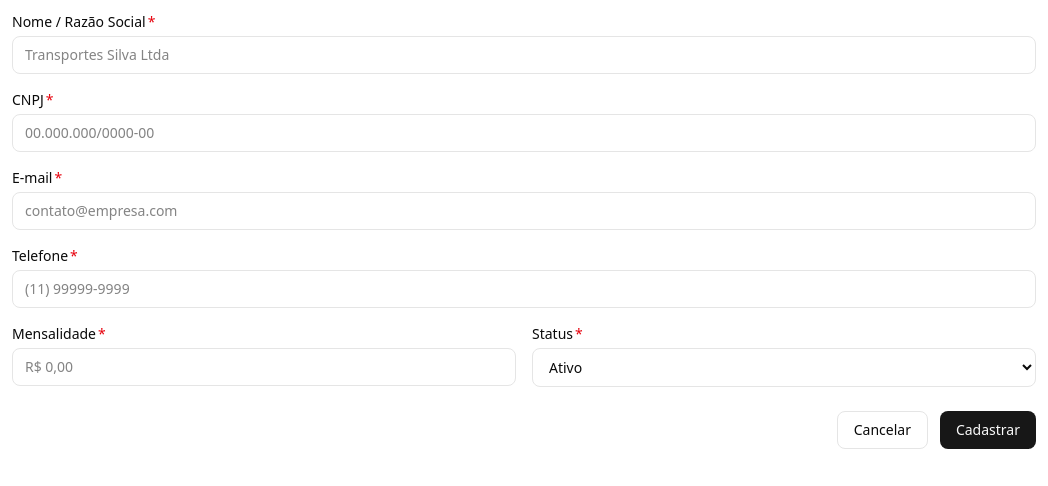
Test: CustomerForm — validação › e-mail inválido → erro após blur
Step 1. Type "nao-e-email" into the field labelled "E-mail*" → (524, 211), box [12, 192, 1036, 230]
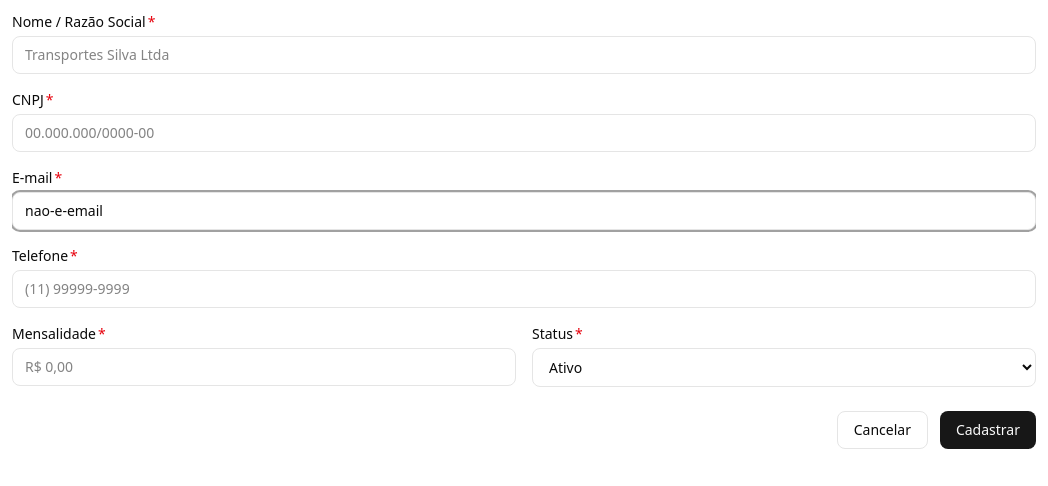
Step 2. Press Tab
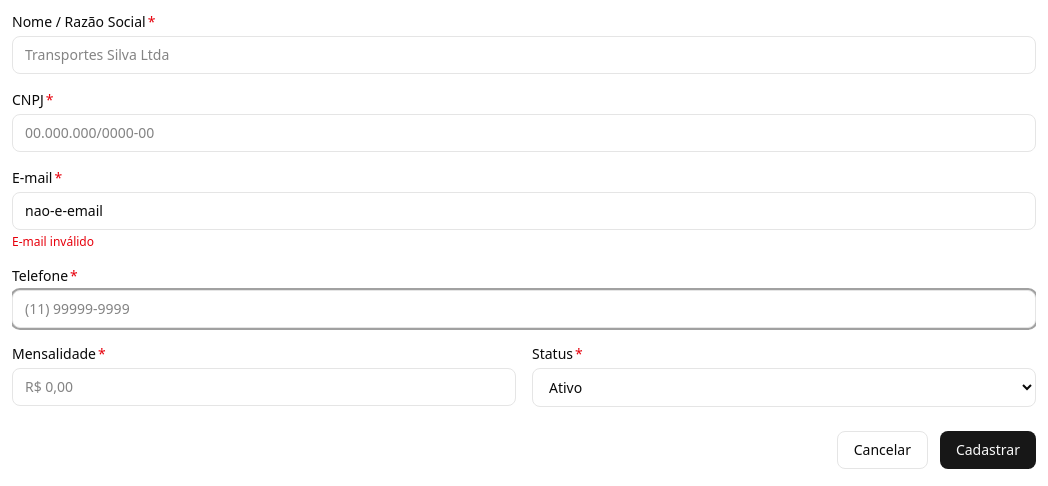
Expected: the message reads "E-mail inválido", [12, 233, 94, 250]
